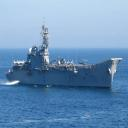Portanaves: (5, 13, 124, 92)
